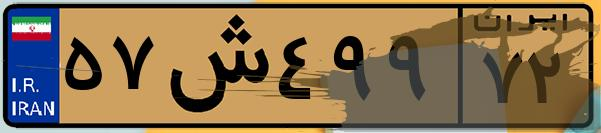2: (525, 38, 570, 115)
4: (270, 28, 330, 110)
5: (57, 26, 110, 100)
7: (475, 38, 525, 113), (110, 28, 158, 98)
9: (385, 28, 445, 110), (330, 28, 385, 110)
ش: (158, 12, 270, 120)
